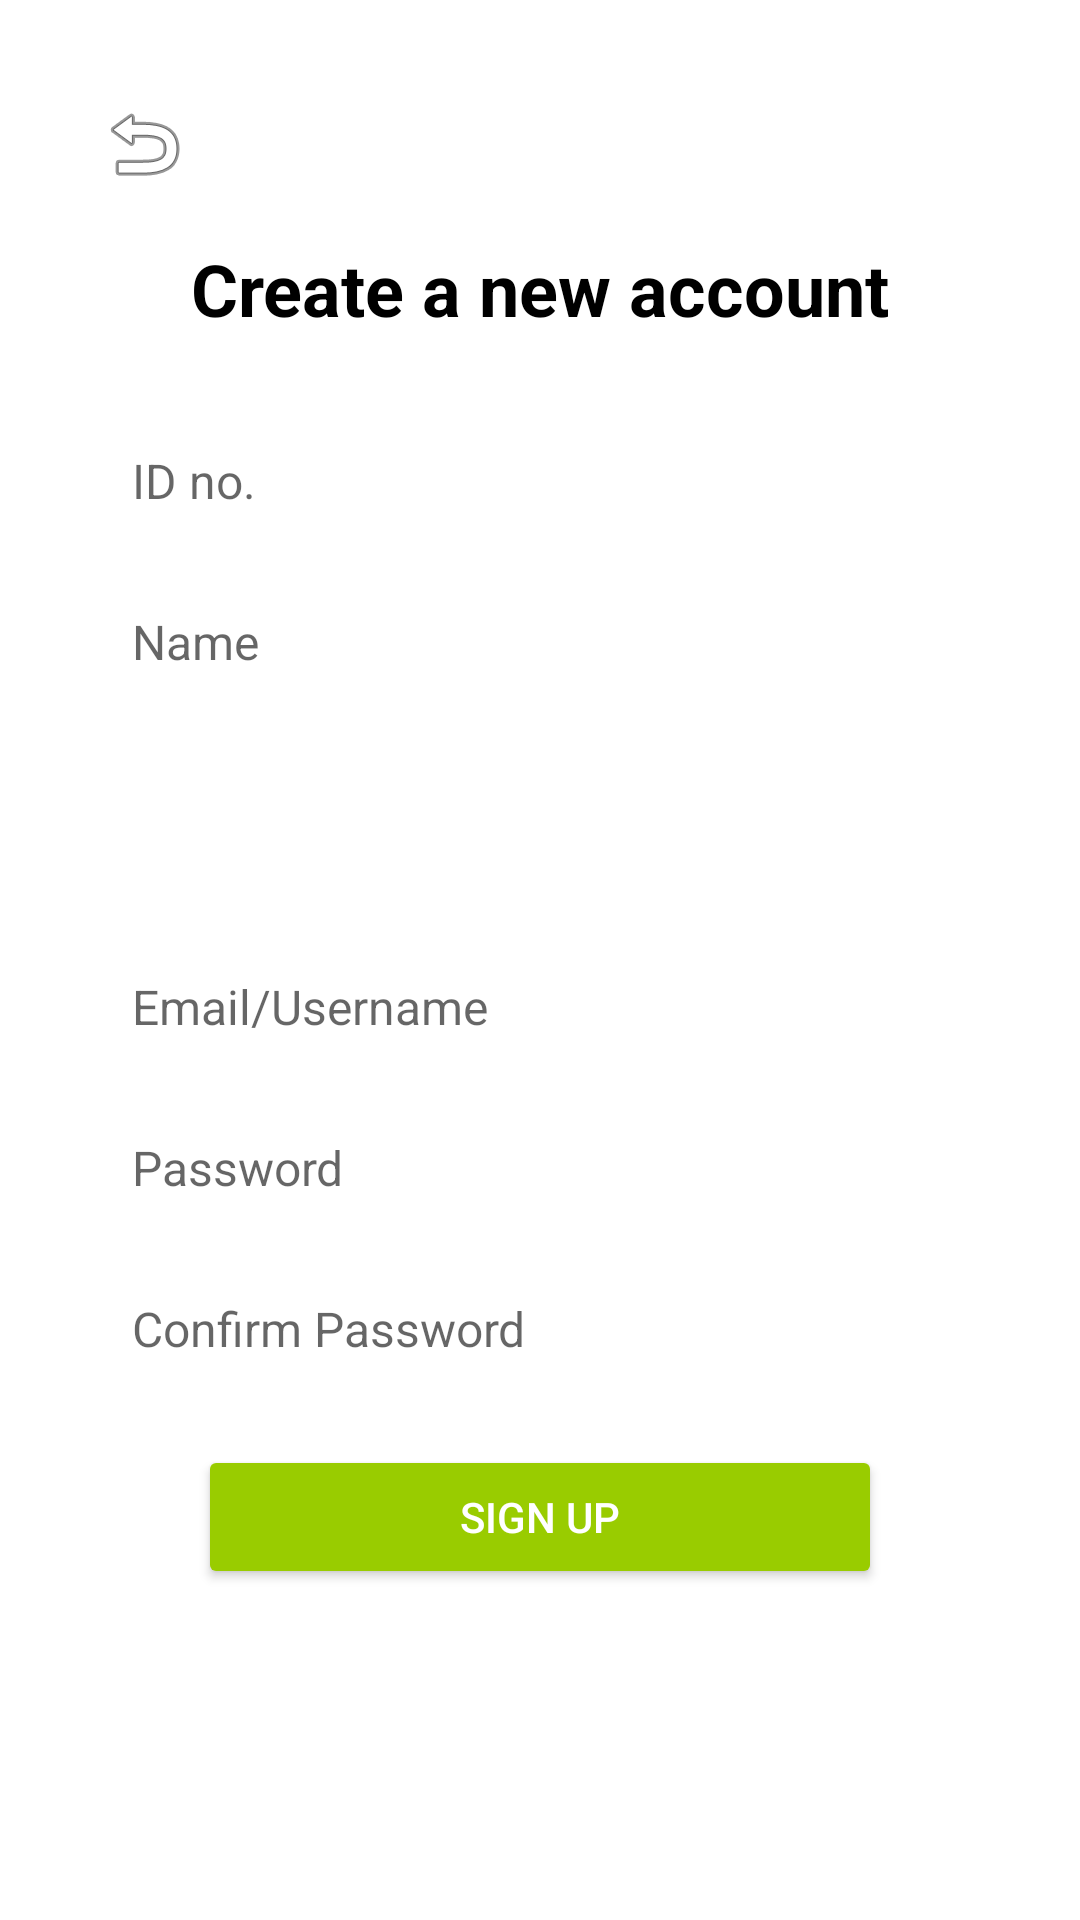

Icons on this 1080px x 1920px Android screen, each with its box as box(x1, y1, x2, y2):
Back: box(111, 113, 180, 176)
